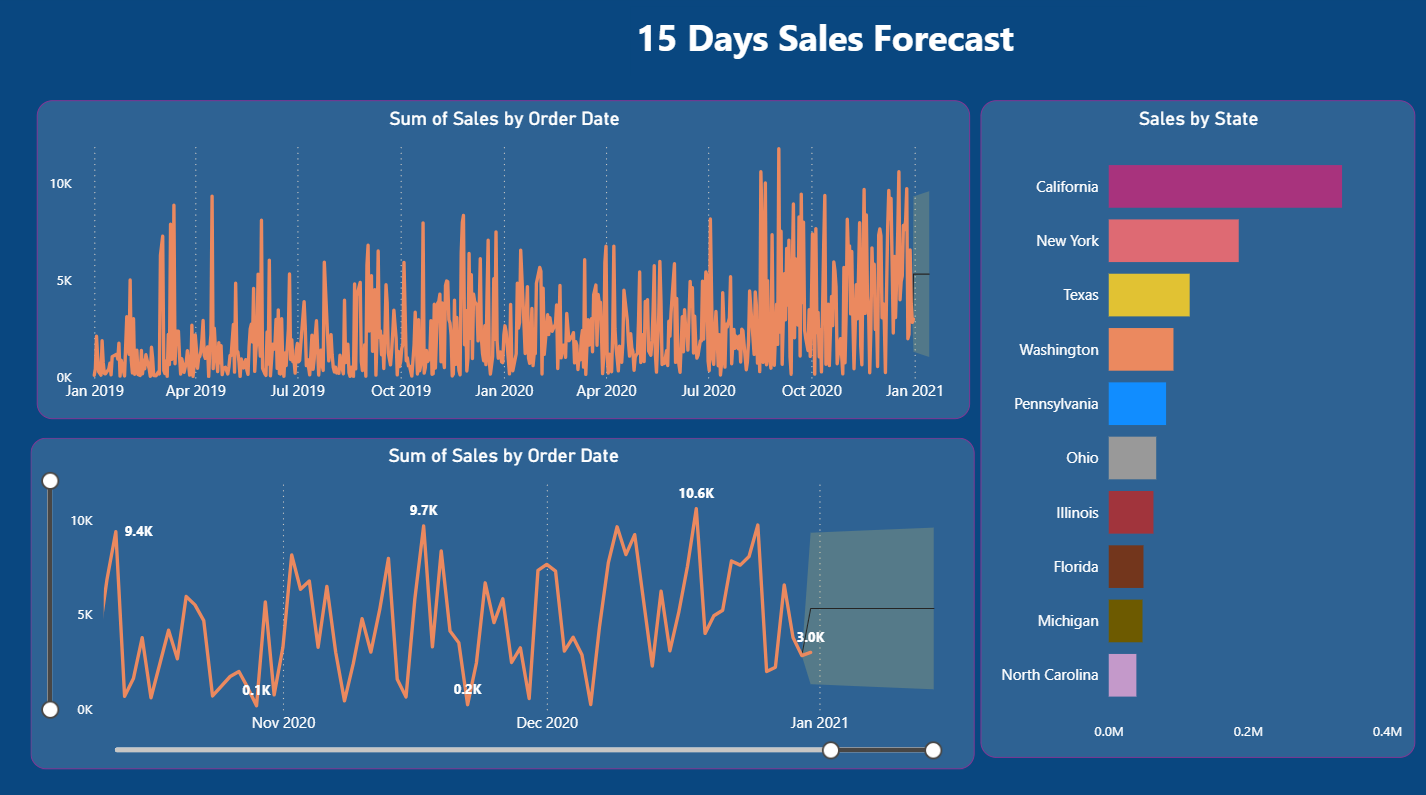

This screenshot's page, from the dashboard's own definition file:
{"tool":"powerbi","page":{"name":"Page 2","canvas":[1280,720],"ordinal":1},"visuals":[{"type":"lineChart","fields":{"Y":["Sum(Sheet1.Sales)"],"Category":["Sheet1.Order Date"]},"box":[38.4,94.7,831.6,284],"z":0},{"type":"lineChart","fields":{"Y":["Sum(Sheet1.Sales)"],"Category":["Sheet1.Order Date"]},"box":[32.9,395.2,841.2,295],"z":1000},{"type":"textbox","box":[568.1,11,459.7,61.7],"z":2000},{"type":"barChart","title":"Sales by State","fields":{"Category":["Sheet1.State"],"Y":["Sum(Sheet1.Sales)"]},"box":[879.6,94.7,387,585.9],"z":3000}]}

Visuals, with their boxes in screenshot pixels (x1, y1, x2, y2), scaled from the page's 1280x720 canvas onto the 1426x795 screenshot:
lineChart - Sum(Sheet1.Sales) x Sheet1.Order Date: (x1=43, y1=105, x2=969, y2=418)
lineChart - Sum(Sheet1.Sales) x Sheet1.Order Date: (x1=37, y1=436, x2=974, y2=762)
textbox: (x1=633, y1=12, x2=1145, y2=80)
"Sales by State" barChart: (x1=980, y1=105, x2=1411, y2=751)
